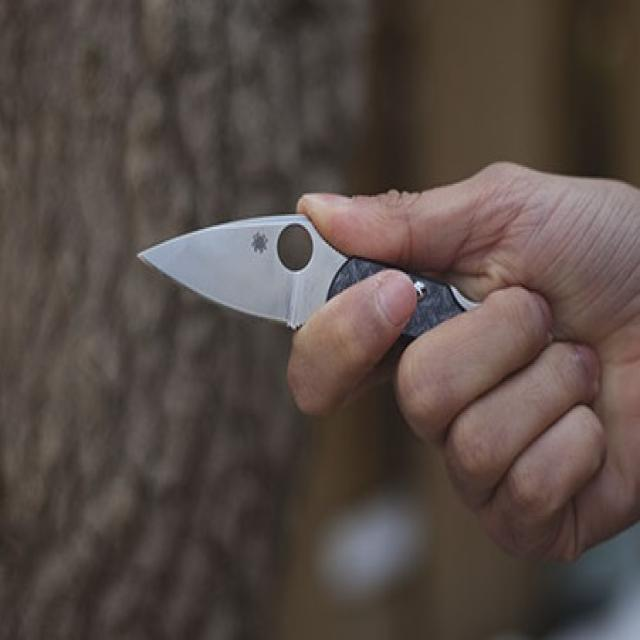knife: (125, 206, 329, 328)
